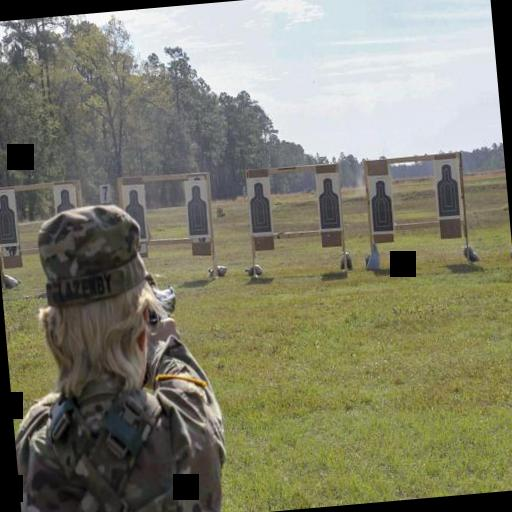Handgun: (143, 281, 178, 328)
